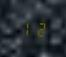one: (19, 19, 31, 36)
two: (32, 19, 44, 37)
